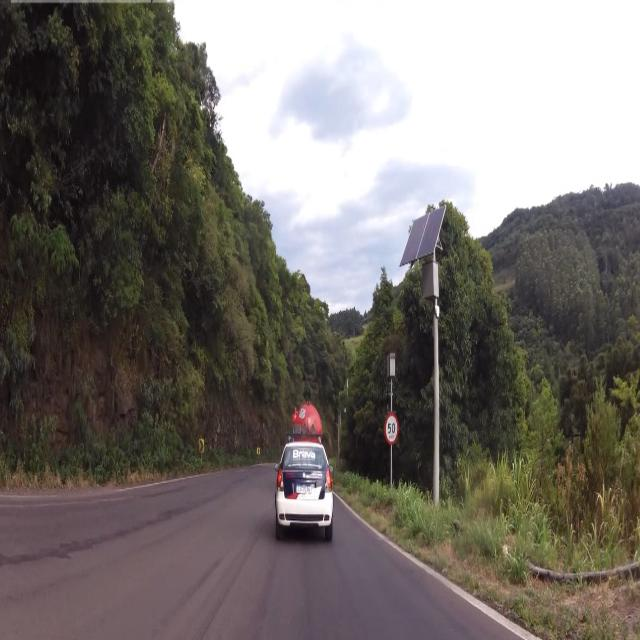R-19: (385, 416, 399, 441)
